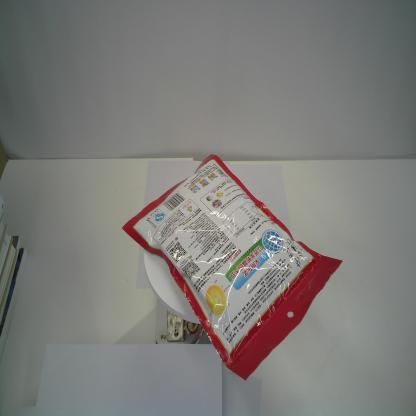Instant Drink: (122, 152, 344, 382)
